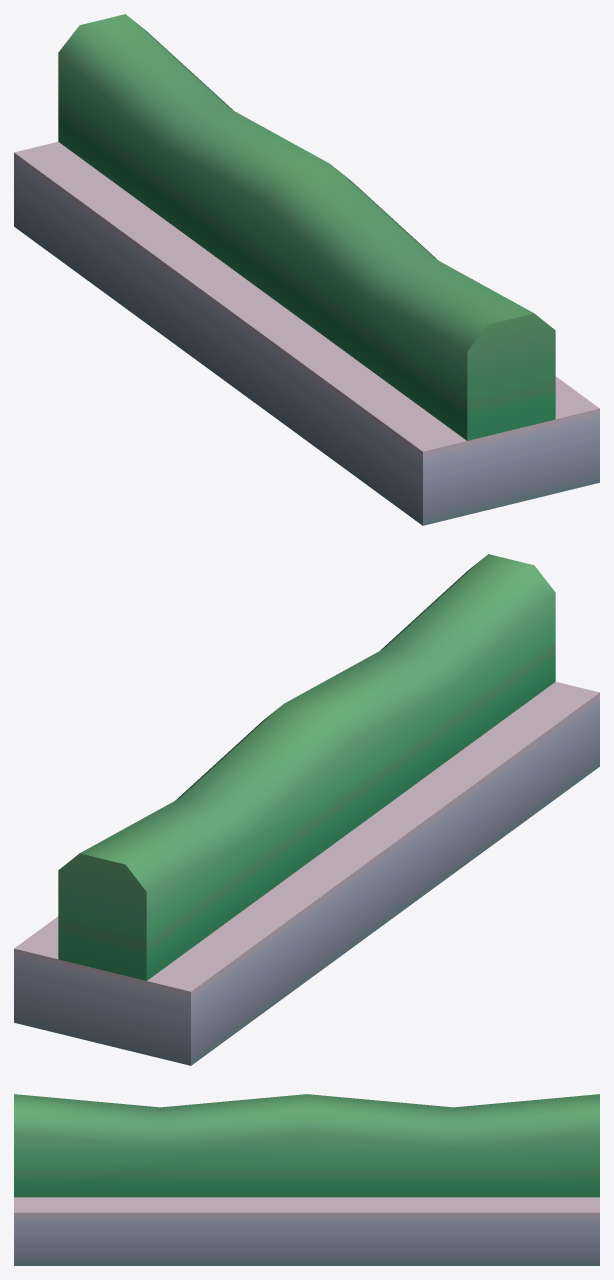
The model's file is hedge.glb.
The picture shows the model from 3 angles, top to bottom: view 1: azimuth 30°, elevation 25°; view 2: azimuth 150°, elevation 25°; view 3: azimuth 270°, elevation 25°; orthographic projection. The views are drawn at different scales.
Visible parts, largest first — view 1: hedge; view 2: hedge; view 3: hedge.
Boxes of the visible parts, left/top/right/bottom form: hedge: left=14, top=14, right=599, bottom=525; hedge: left=14, top=554, right=599, bottom=1065; hedge: left=14, top=1094, right=599, bottom=1265.
Bounding box in the file's own units: 0.25 × 0.25 × 1.
1 material, 1 textured.
